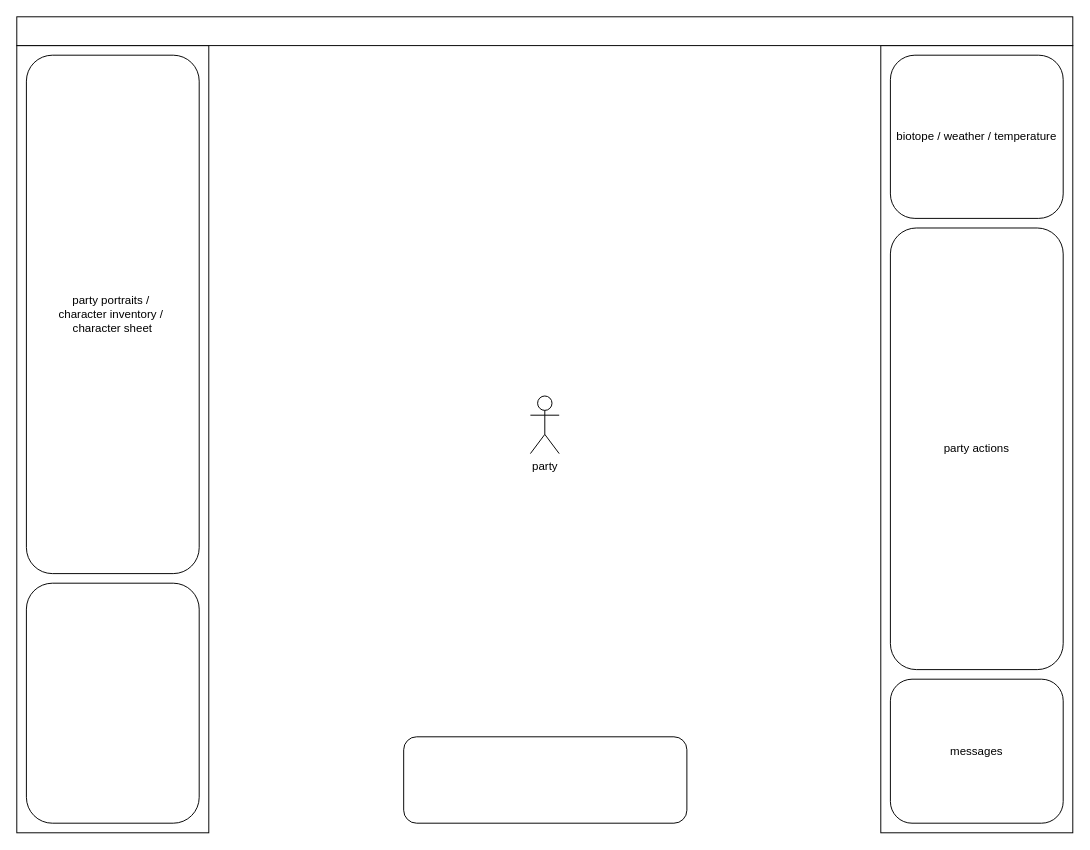
This 1090x850 diagram has some shape labels left out. The shapes that lost their labels are listed below. From the top down, each one's box as (x1, y1, x2, y2) in pixels, then its label:
(16, 16, 1073, 46): top menu
(25, 582, 199, 823): party inventory
(403, 736, 687, 823): items on ground
